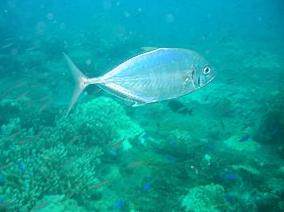Carangidae -Jacks-: (58, 45, 219, 117)
